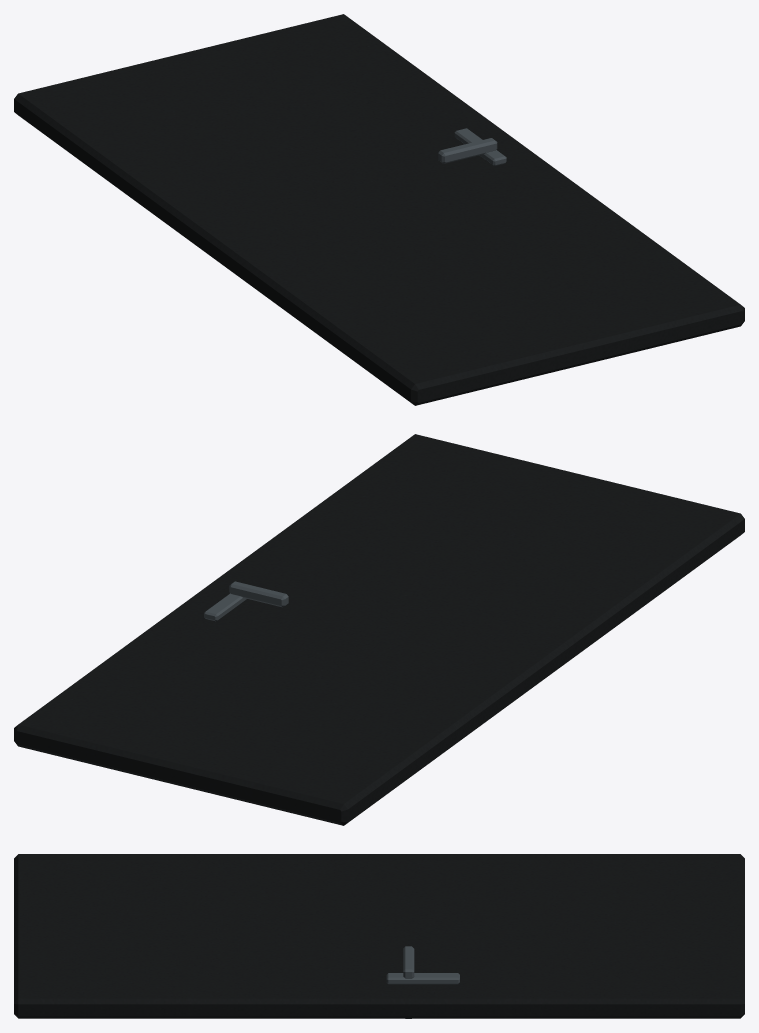
Rendered from door_leaf_02.obj.
3 views of the same model, one above another, from view 1: azimuth 30°, elevation 25°; view 2: azimuth 150°, elevation 25°; view 3: azimuth 270°, elevation 25° (orthographic). The views are drawn at different scales.
Visible parts, largest first — view 1: leaf_charcoal, leaf_metal; view 2: leaf_charcoal, leaf_metal; view 3: leaf_charcoal, leaf_metal.
Part boxes in pixels (box(x1,y1,x2,y2)): leaf_charcoal: box(14, 14, 744, 405); leaf_metal: box(438, 128, 506, 165); leaf_charcoal: box(14, 434, 744, 825); leaf_metal: box(204, 581, 288, 621); leaf_charcoal: box(14, 854, 744, 1018); leaf_metal: box(386, 946, 459, 1018).
Size of the model in its own units: 48 by 7.5 by 100.
2 materials, 2 textured.
